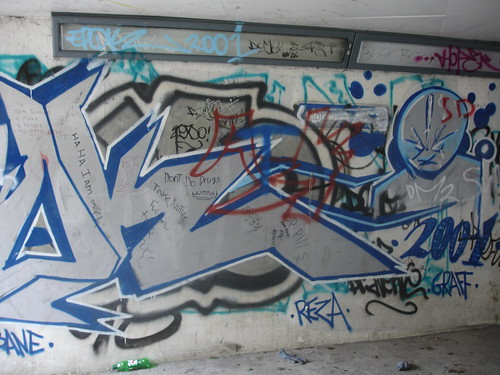graffiti: (1, 63, 500, 372)
